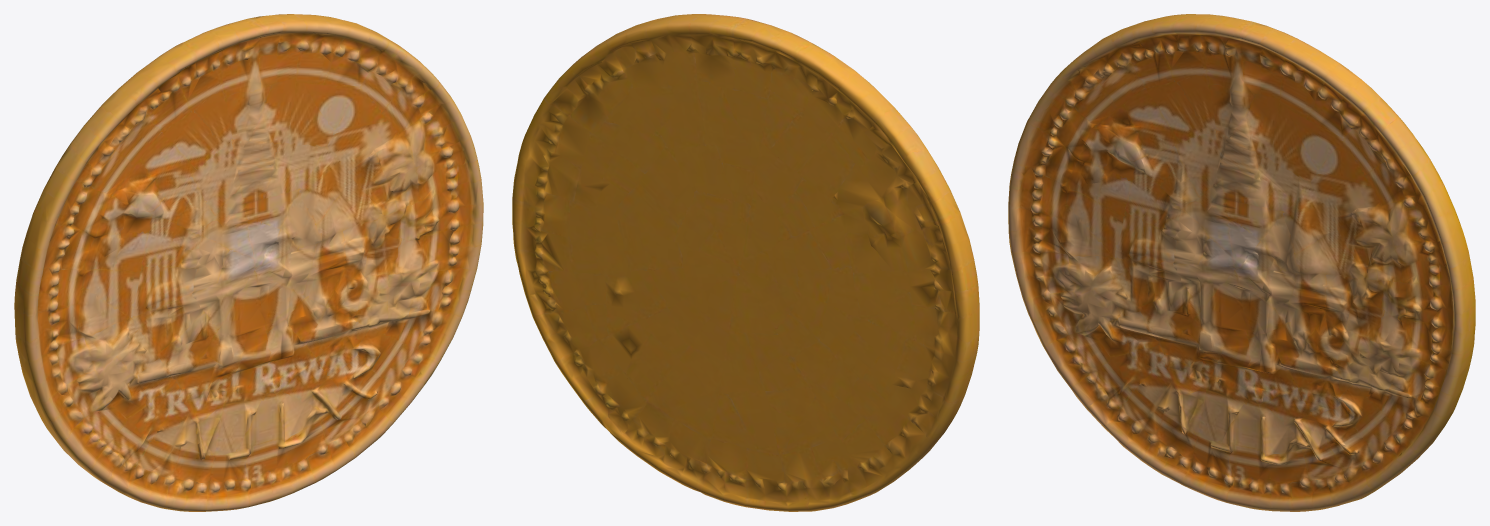
The model's file is thailand.glb.
3 renders of one model, left to right at view 1: azimuth 30°, elevation 25°; view 2: azimuth 150°, elevation 25°; view 3: azimuth 330°, elevation 25°, orthographic.
Bounding box in the file's own units: 2 × 2 × 0.1252.
1 material, 1 textured.
